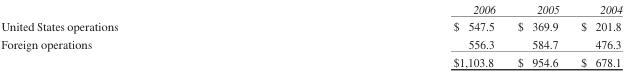table: (0, 1, 621, 68)
table column: (0, 1, 285, 68), (285, 1, 505, 68), (505, 1, 569, 68), (569, 1, 621, 68)
table column header: (0, 1, 621, 16)
table row: (0, 16, 621, 34), (0, 34, 621, 52), (0, 52, 621, 68), (0, 1, 621, 16)
